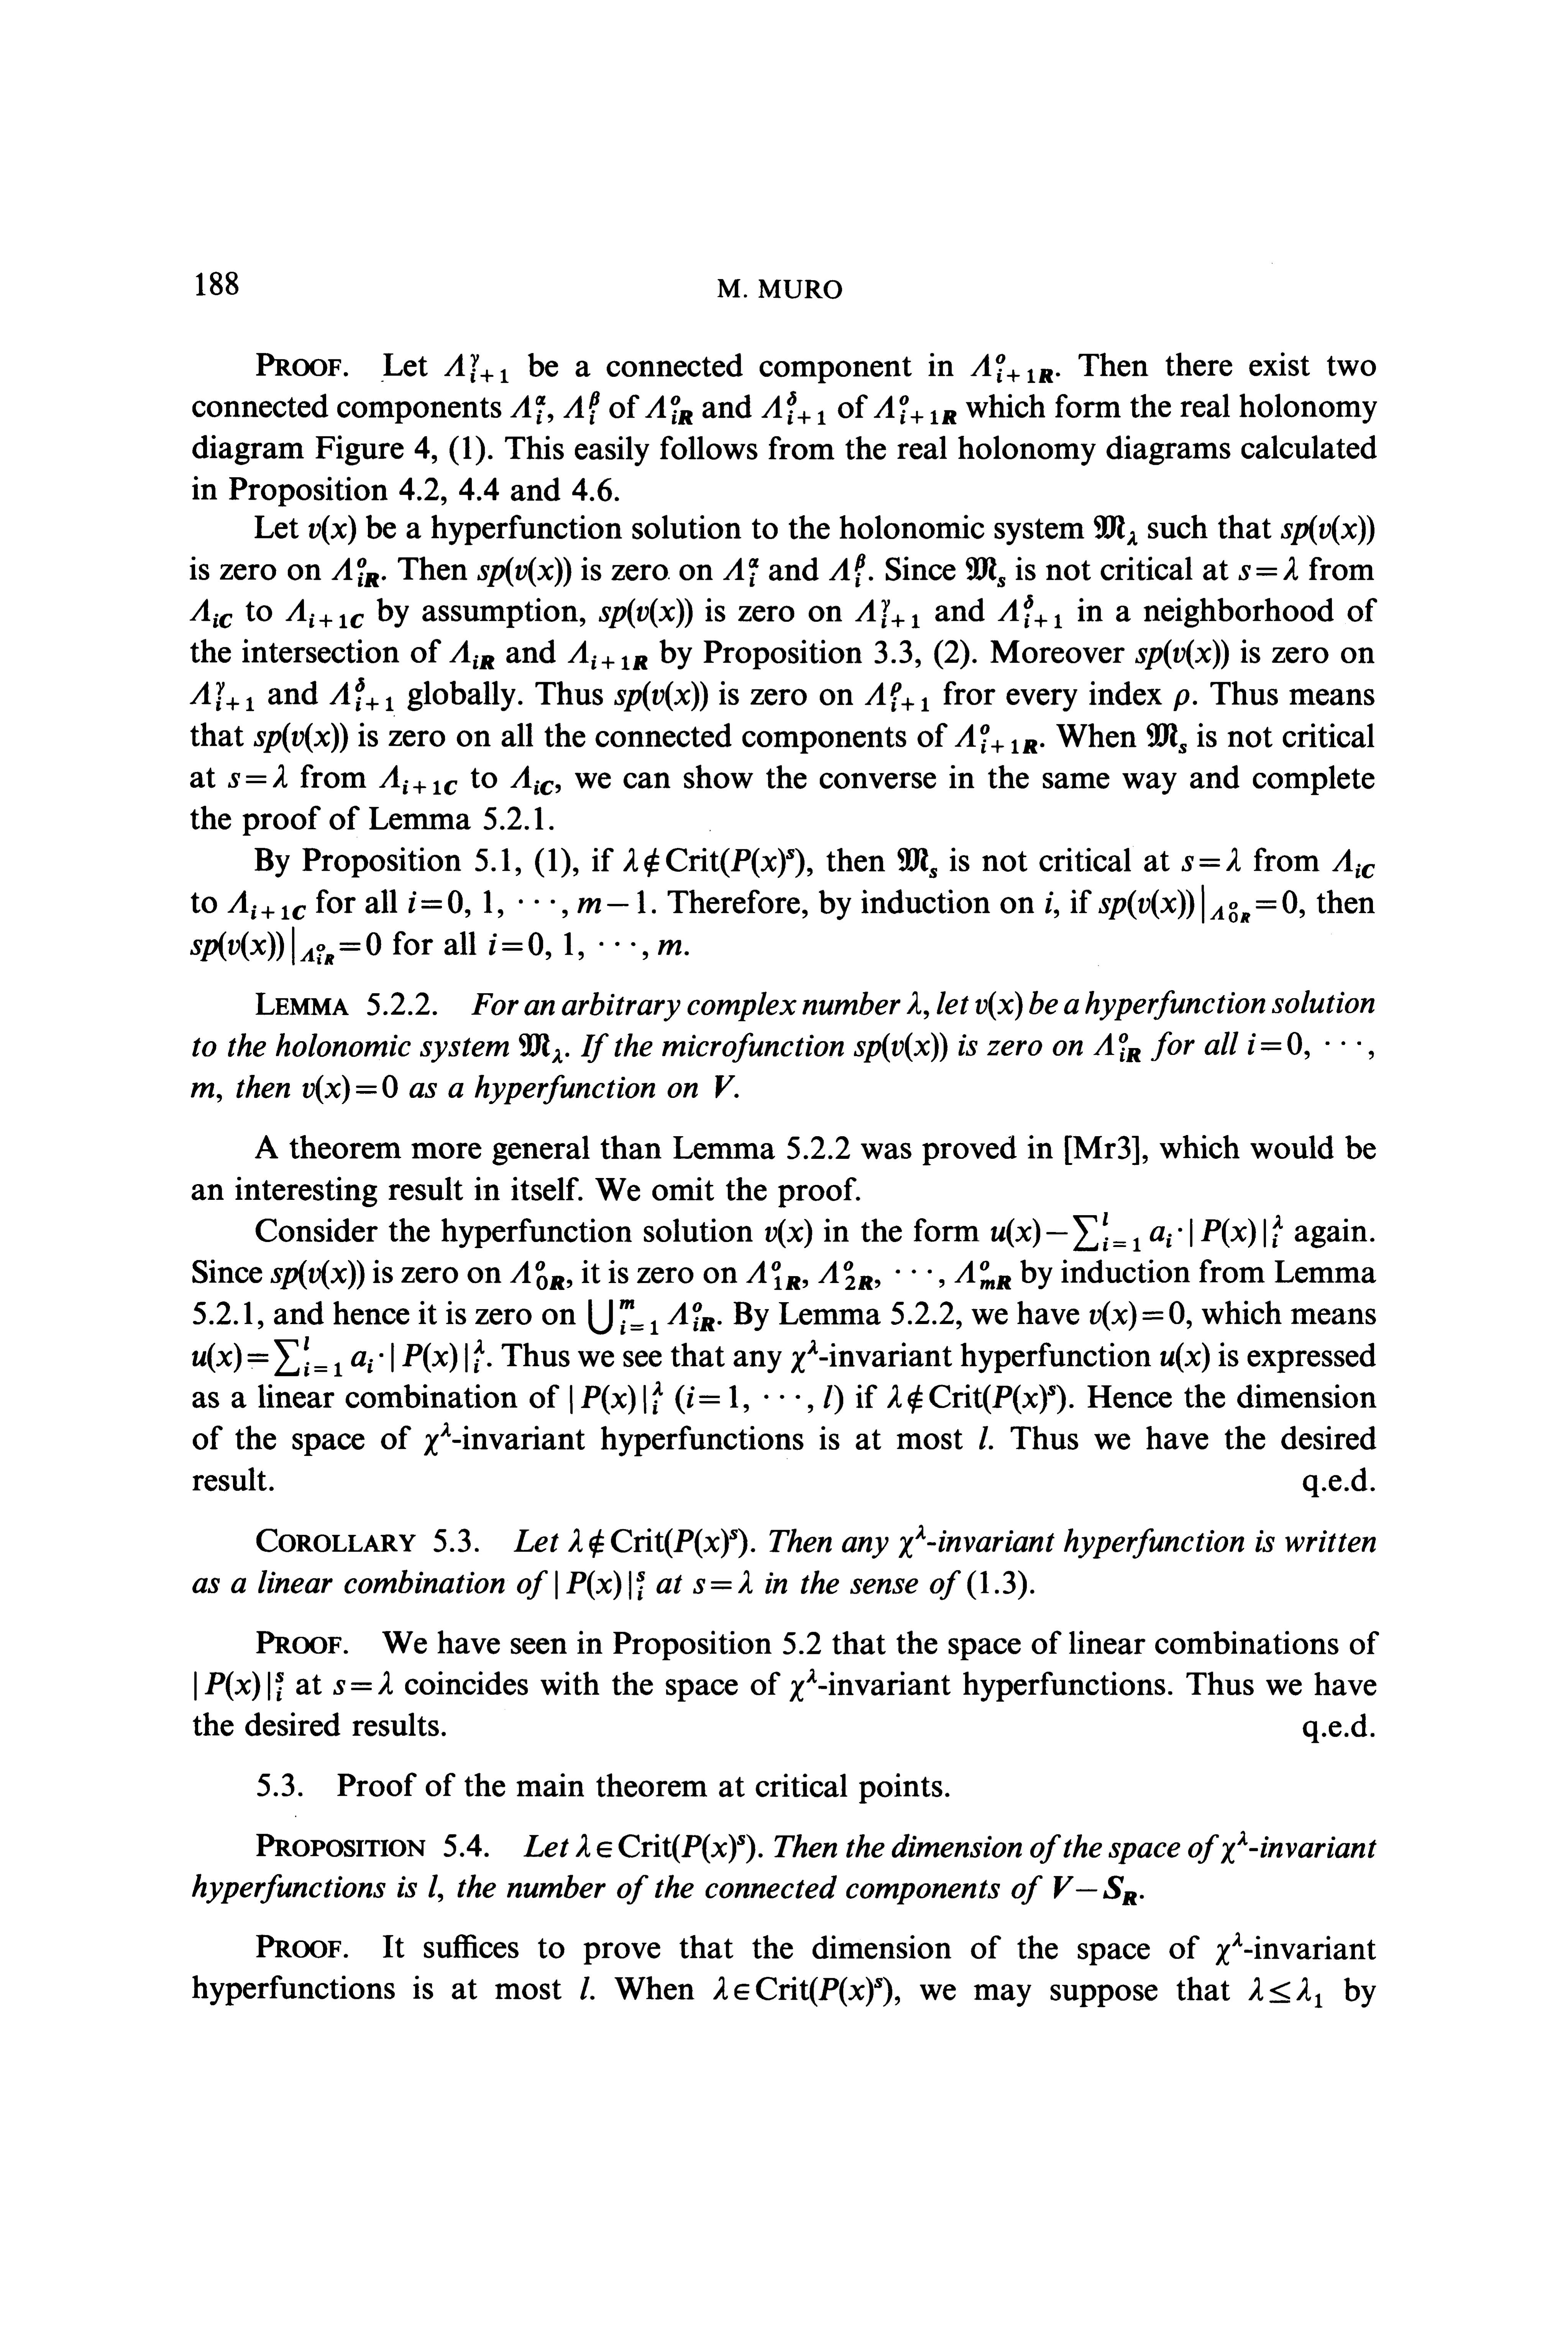maths: (990, 1211, 1283, 1252), (192, 1336, 485, 1376), (570, 1381, 843, 1414), (745, 1260, 1011, 1290), (191, 926, 381, 964), (1099, 886, 1297, 922), (408, 891, 646, 917), (623, 847, 805, 877), (488, 931, 681, 959), (712, 1976, 892, 2006), (887, 1385, 1066, 1414), (569, 1528, 747, 1558), (576, 1834, 754, 1862), (588, 1299, 714, 1334), (1248, 1033, 1374, 1059), (254, 723, 348, 753), (303, 1075, 397, 1104), (1090, 1301, 1185, 1330), (1281, 515, 1374, 544), (478, 557, 570, 586), (598, 599, 691, 628), (1136, 639, 1228, 669), (614, 681, 707, 711), (854, 1033, 947, 1062), (194, 1672, 283, 1701), (555, 1570, 644, 1600), (271, 1260, 364, 1288), (285, 599, 364, 628), (569, 641, 647, 670), (971, 354, 1053, 382), (873, 396, 955, 424), (955, 725, 1038, 753), (1053, 1876, 1136, 1904), (380, 765, 457, 795), (227, 891, 306, 919), (1248, 1978, 1321, 2008), (761, 390, 826, 424), (997, 595, 1062, 628), (329, 677, 394, 711), (189, 681, 254, 711), (864, 683, 929, 712), (856, 599, 919, 628), (444, 354, 507, 382), (509, 1260, 563, 1290), (1181, 847, 1241, 872), (1160, 1343, 1209, 1372), (308, 515, 355, 544), (975, 991, 1022, 1020), (1094, 1033, 1141, 1062), (765, 1218, 812, 1248), (1239, 557, 1298, 579), (227, 765, 287, 788), (332, 1672, 392, 1694), (693, 1570, 752, 1593), (331, 558, 378, 586), (1094, 515, 1137, 544), (518, 1033, 562, 1062), (646, 396, 691, 424), (189, 599, 231, 628), (511, 765, 553, 795), (1332, 849, 1374, 879), (450, 641, 493, 669), (898, 847, 936, 879), (1146, 723, 1186, 753), (563, 390, 598, 424), (829, 553, 864, 586), (966, 557, 1004, 586), (723, 558, 758, 586), (511, 396, 544, 424), (423, 1421, 451, 1455), (789, 1668, 817, 1701), (791, 1339, 817, 1372), (1216, 1932, 1242, 1966), (899, 1525, 926, 1558), (1221, 1831, 1248, 1864), (716, 1075, 738, 1097), (1045, 891, 1059, 917), (191, 1082, 213, 1097), (906, 991, 920, 1013), (1174, 690, 1188, 711), (581, 1976, 590, 1999), (429, 1875, 437, 1897), (980, 1427, 987, 1449)
